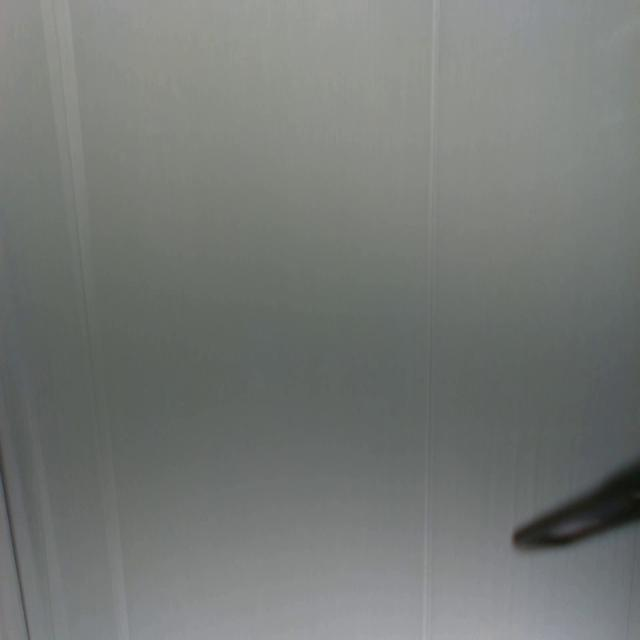crease: (46, 2, 128, 638), (424, 3, 442, 635), (0, 461, 31, 640)
